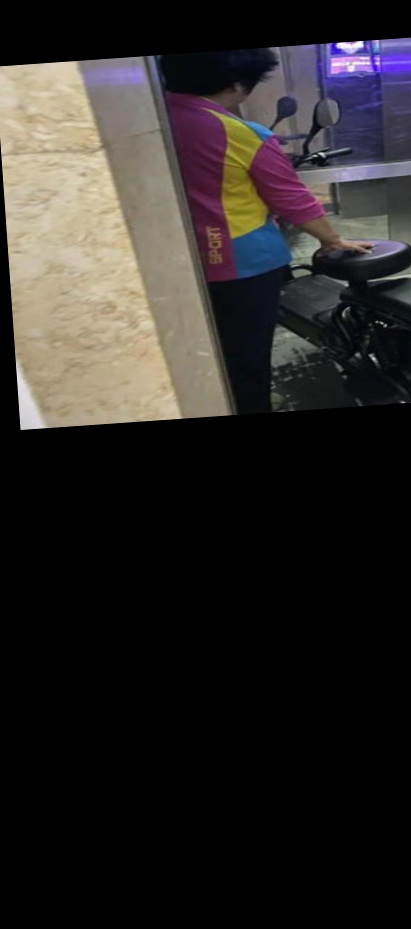ebike: (274, 92, 403, 405)
person: (158, 41, 305, 421)
